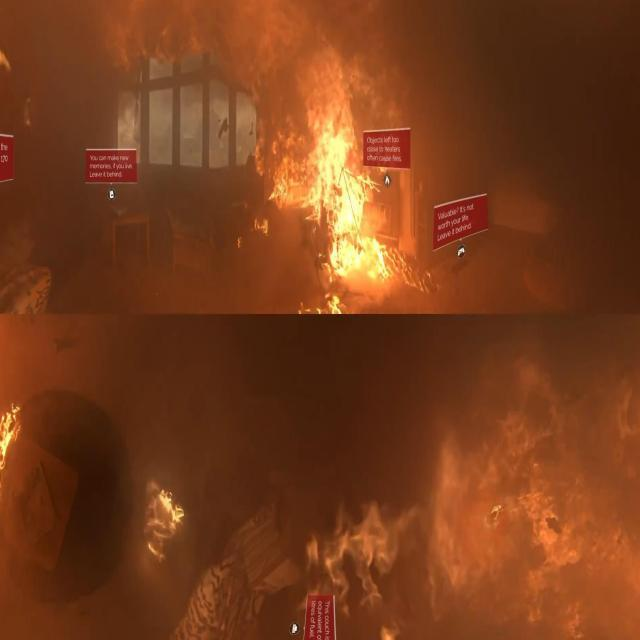smoke: (270, 92, 420, 298), (142, 474, 185, 568), (0, 400, 31, 522)
